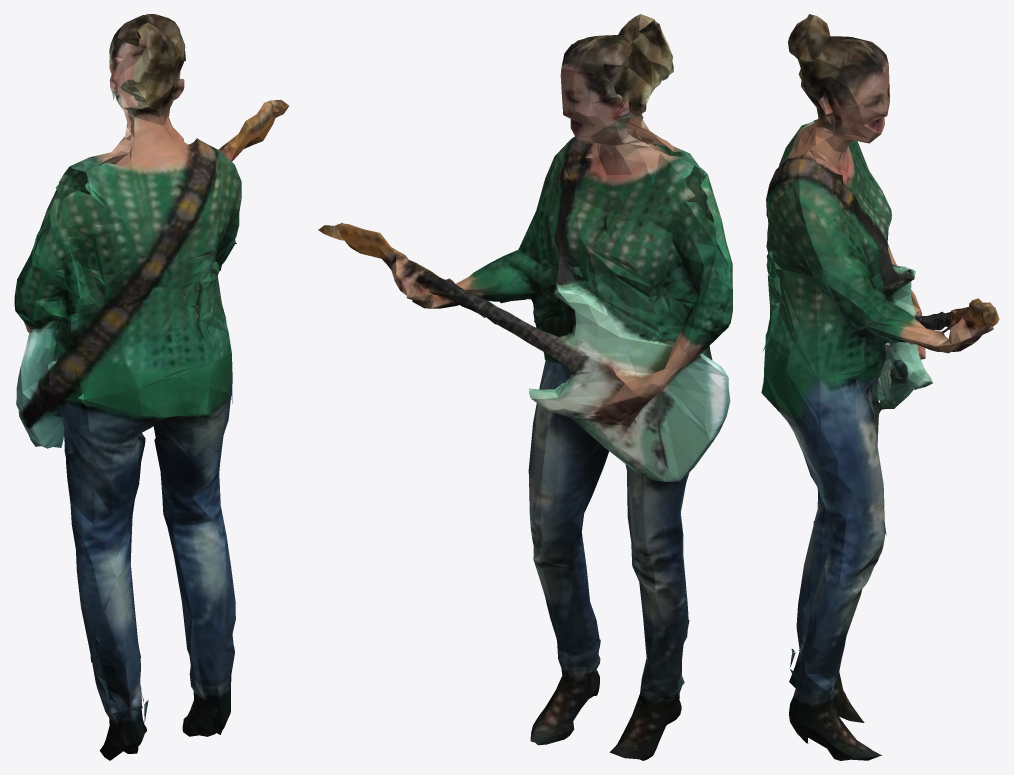
The picture shows the model from 3 angles, left to right: view 1: azimuth 30°, elevation 25°; view 2: azimuth 150°, elevation 25°; view 3: azimuth 270°, elevation 25°; orthographic projection. The views are drawn at different scales.
Visible parts, largest first — view 1: dec_0000; view 2: dec_0000; view 3: dec_0000.
Boxes of the visible parts, x1,y1,x2,y2 form: dec_0000: (14, 14, 288, 760); dec_0000: (318, 14, 732, 760); dec_0000: (761, 14, 999, 760).
Size of the model in its own units: 0.8447 by 1.73 by 0.5241.
Materials: 1 (1 with a texture image).
